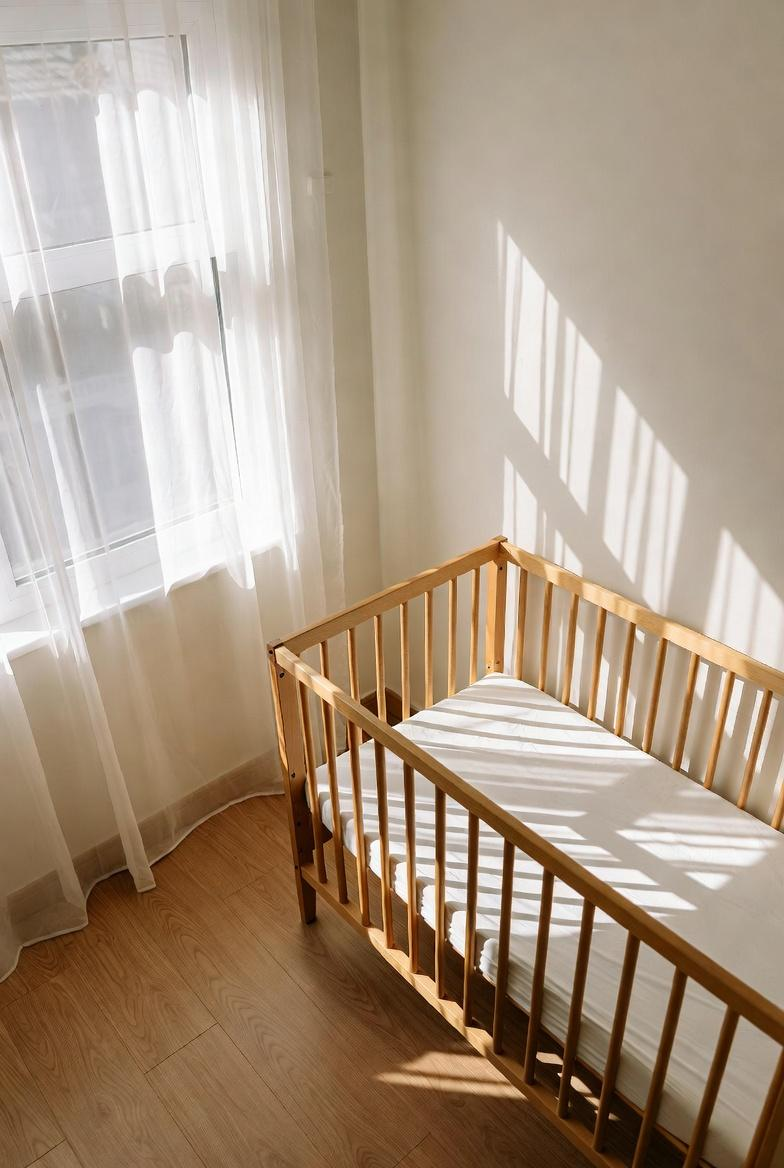crib: (269, 538, 784, 1168)
